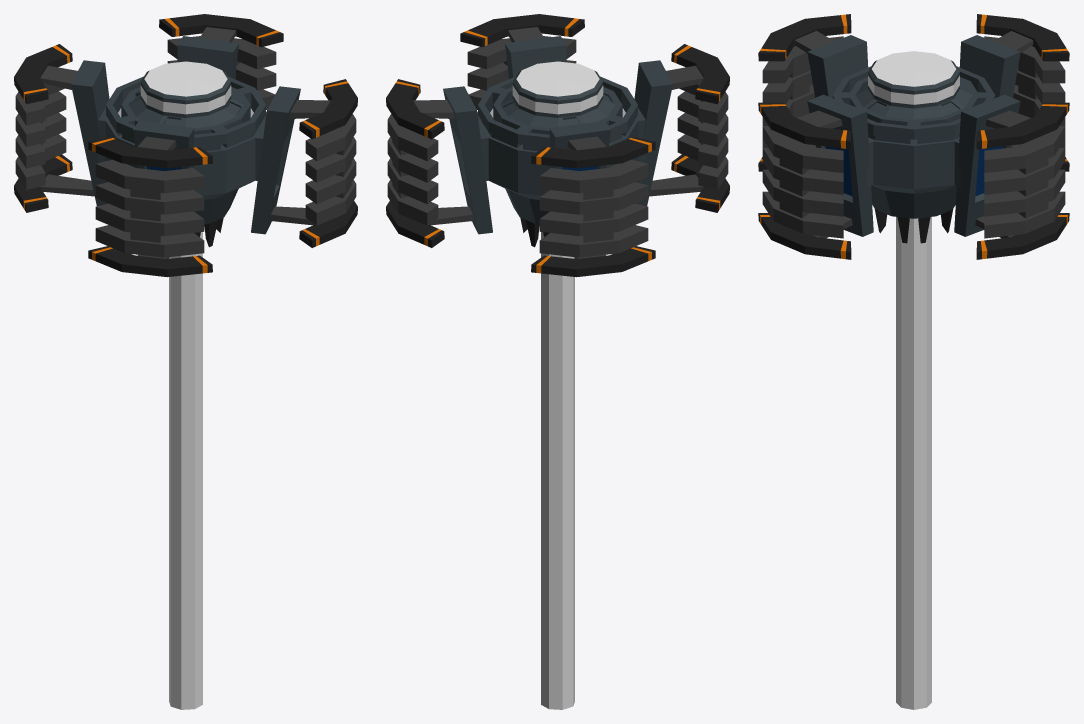
The model's file is SateliteLaserCustom.fbx.
3 views of the same model, side by side, from view 1: azimuth 30°, elevation 25°; view 2: azimuth 150°, elevation 25°; view 3: azimuth 270°, elevation 25° (orthographic).
Visible parts, largest first — view 1: Base, Cylinder, Parte rotatoria.001, Parte rotatoria.002, Parte rotatoria.005, Parte rotatoria.003; view 2: Base, Cylinder, Parte rotatoria.005, Parte rotatoria.003, Parte rotatoria.001, Parte rotatoria.002; view 3: Base, Cylinder, Parte rotatoria.002, Parte rotatoria.003, Parte rotatoria.001, Parte rotatoria.005.
Boxes of the visible parts, x1=… form: Base: x1=14, y1=14, x2=357, y2=277; Cylinder: x1=169, y1=232, x2=202, y2=709; Parte rotatoria.001: x1=95, y1=159, x2=204, y2=257; Parte rotatoria.002: x1=305, y1=114, x2=356, y2=225; Parte rotatoria.005: x1=15, y1=84, x2=66, y2=189; Parte rotatoria.003: x1=167, y1=36, x2=276, y2=119; Base: x1=386, y1=14, x2=729, y2=277; Cylinder: x1=541, y1=232, x2=574, y2=709; Parte rotatoria.005: x1=539, y1=159, x2=648, y2=257; Parte rotatoria.003: x1=387, y1=114, x2=438, y2=225; Parte rotatoria.001: x1=677, y1=84, x2=728, y2=189; Parte rotatoria.002: x1=467, y1=36, x2=576, y2=119; Base: x1=758, y1=14, x2=1069, y2=259; Cylinder: x1=896, y1=217, x2=931, y2=709; Parte rotatoria.002: x1=762, y1=126, x2=843, y2=238; Parte rotatoria.003: x1=984, y1=126, x2=1065, y2=238; Parte rotatoria.001: x1=762, y1=36, x2=843, y2=147; Parte rotatoria.005: x1=984, y1=36, x2=1065, y2=147.
Size of the model in its own units: 1751 by 4052 by 1804.
Materials: 2 (1 with a texture image).
